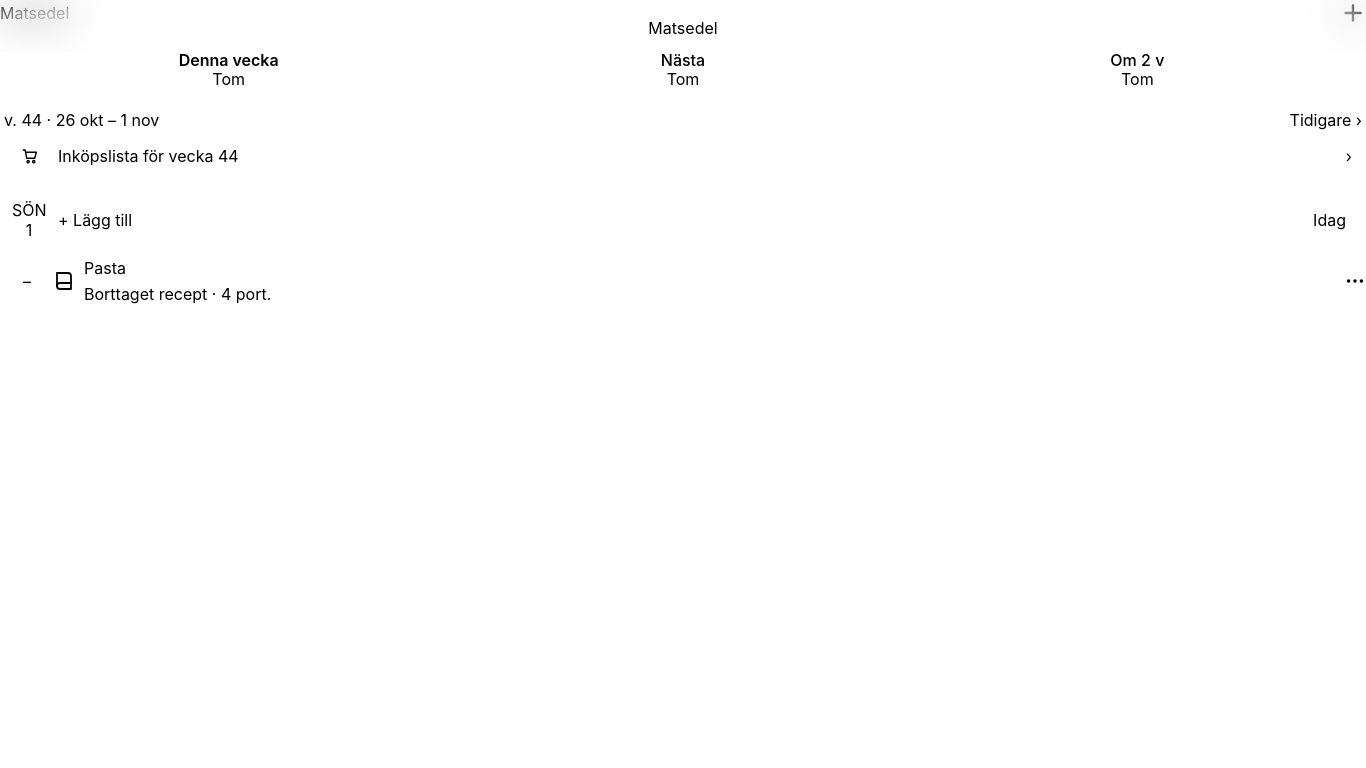
Test: MealPlanContent › shows the plan when the library cannot be read, and the sheet says so
Expected: the list item with test id "plan-dish" shows "Pasta", top-left (84, 258), bottom-right (126, 278)
What coordinates should you click on to do the following:
click the button named "Lägg till rätt"
I would click on:
 (1353, 13)
Its box is top-left (1340, 0), bottom-right (1365, 26).
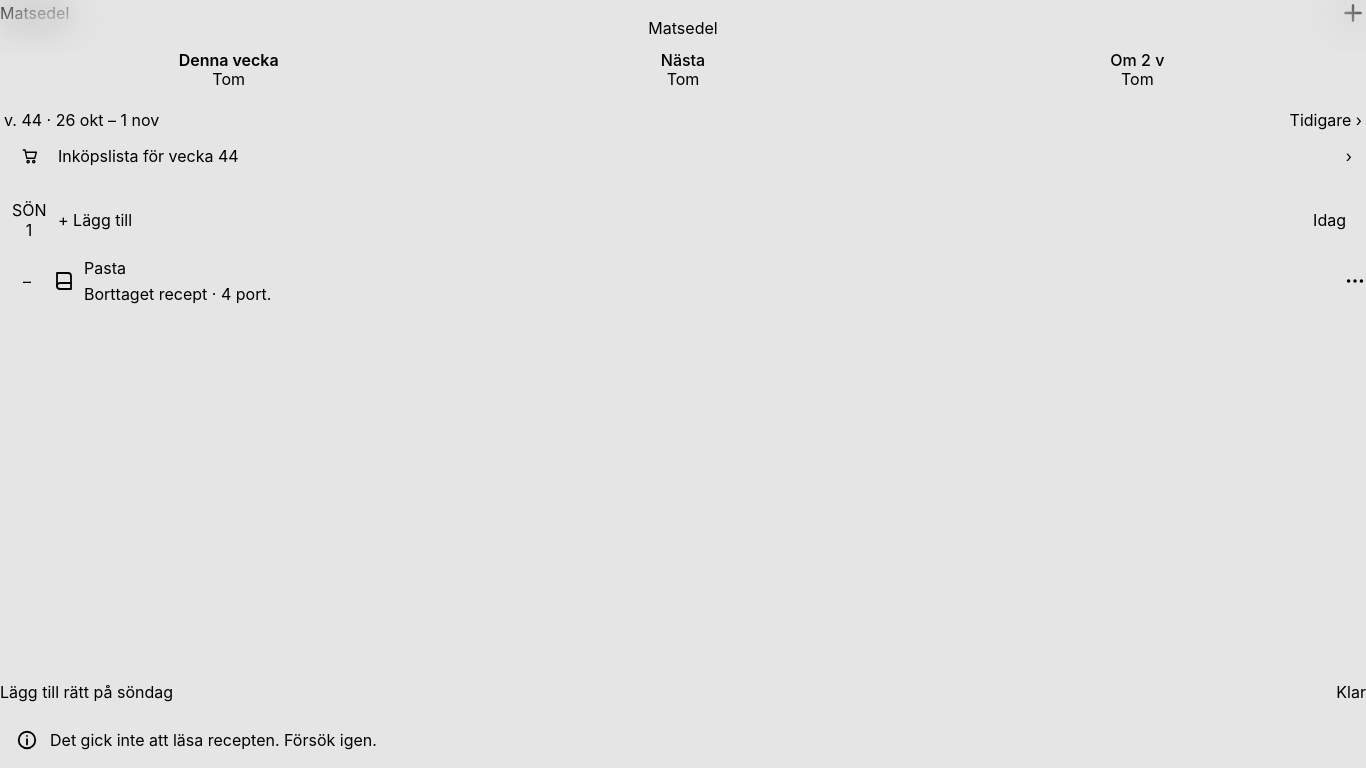
Expected: the message reads "Det gick inte att läsa recepten. Försök igen.", top-left (50, 730), bottom-right (377, 750)
